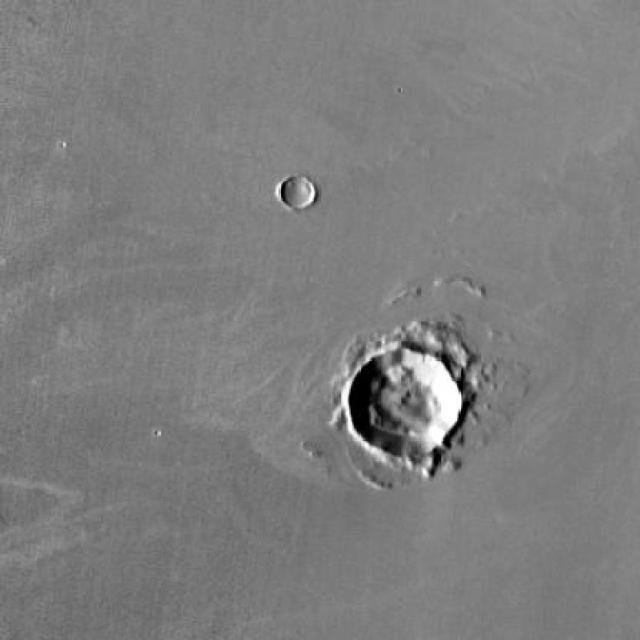crater: (352, 349, 466, 457), (282, 174, 313, 203)
